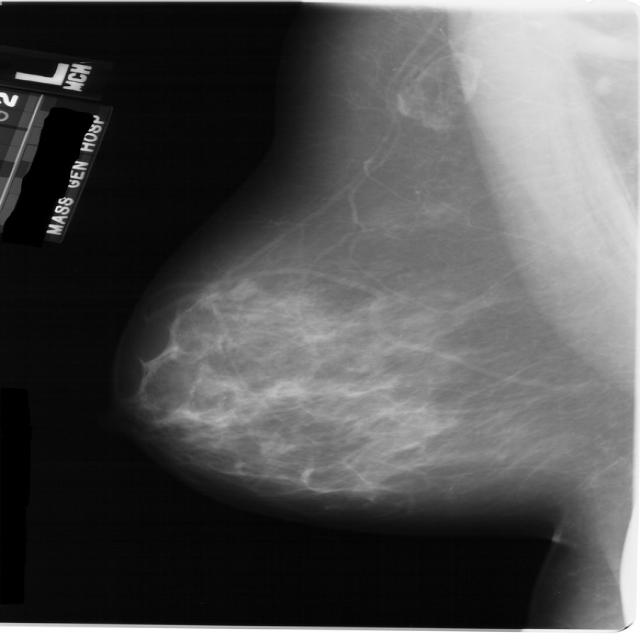tumour: (224, 278, 256, 300)
